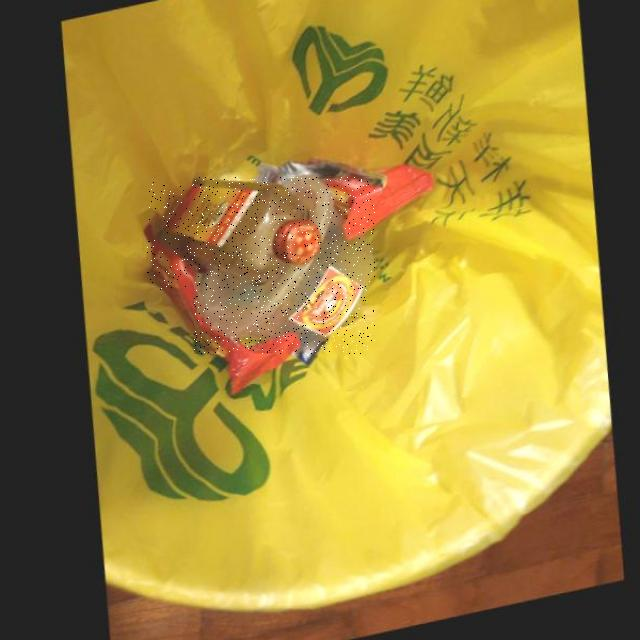glass: (148, 182, 321, 290)
plastic: (194, 177, 375, 353)
